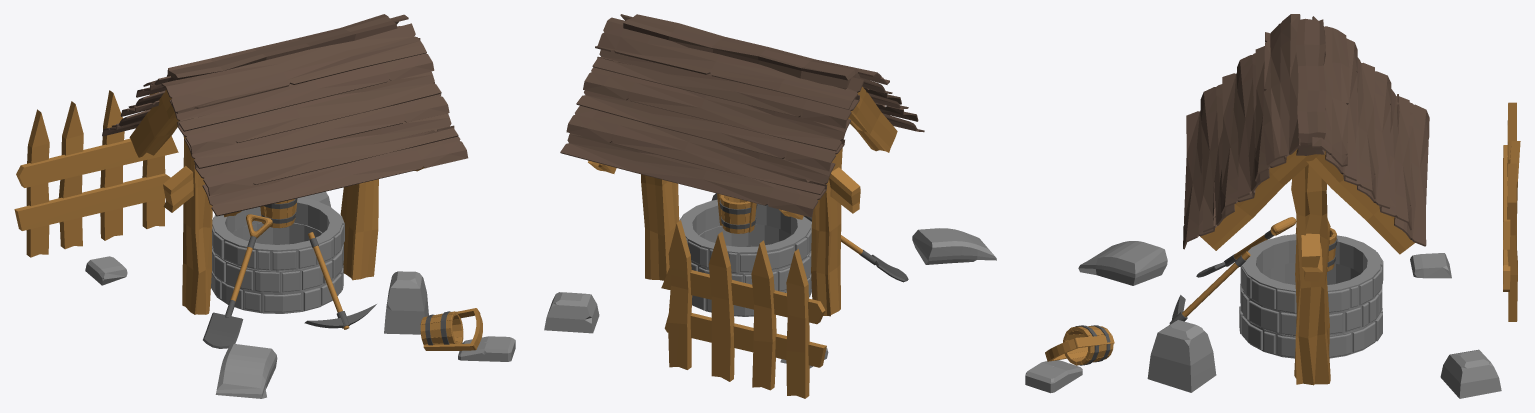
The model's file is Well.fbx.
The picture shows the model from 3 angles, left to right: view 1: azimuth 30°, elevation 25°; view 2: azimuth 150°, elevation 25°; view 3: azimuth 270°, elevation 25°; orthographic projection. The views are drawn at different scales.
Visible parts, largest first — view 1: Well, Fence, Stone02, Stone01, Bucket, Shovel, Pickaxe, Stone05, Stone03; view 2: Well, Fence, Stone02, Stone04, Shovel; view 3: Well, Stone01, Fence, Stone02, Stone04, Bucket, Stone05, Stone03, Pickaxe, Shovel.
Boxes of the visible parts, box(x1,y1,x2,y2) form: Well: box(102, 14, 468, 314); Fence: box(14, 90, 178, 257); Stone02: box(215, 344, 277, 398); Stone01: box(384, 271, 428, 334); Bucket: box(420, 308, 482, 350); Shovel: box(203, 214, 272, 348); Pickaxe: box(304, 232, 376, 329); Stone05: box(458, 336, 515, 361); Stone03: box(85, 256, 127, 285); Well: box(560, 14, 924, 316); Fence: box(661, 220, 826, 398); Stone02: box(912, 228, 996, 264); Stone04: box(544, 292, 599, 333); Shovel: box(804, 216, 908, 282); Well: box(1183, 14, 1429, 385); Stone01: box(1147, 320, 1216, 392); Fence: box(1503, 102, 1520, 321); Stone02: box(1078, 241, 1167, 285); Stone04: box(1440, 349, 1501, 398); Bucket: box(1045, 325, 1114, 365); Stone05: box(1025, 360, 1082, 393); Stone03: box(1410, 253, 1451, 278); Pickaxe: box(1169, 251, 1250, 324); Shovel: box(1196, 217, 1296, 277).
Bounding box in the file's own units: 7.05 × 5.62 × 9.34.
